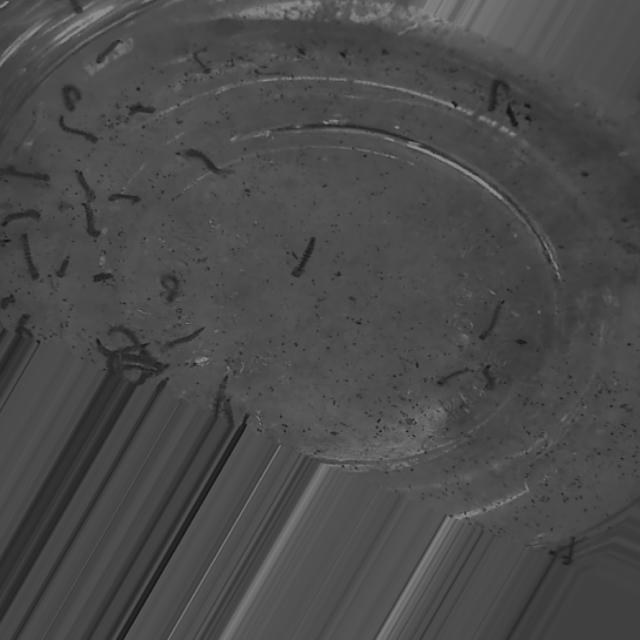larvas: (110, 316, 169, 374), (107, 340, 146, 377), (179, 150, 232, 175), (60, 115, 98, 144), (480, 297, 503, 343), (1, 163, 50, 182), (293, 236, 316, 276), (168, 327, 205, 350), (22, 233, 38, 278), (83, 201, 99, 242), (550, 536, 576, 561), (487, 76, 504, 114), (77, 169, 98, 199), (3, 208, 40, 224), (19, 310, 35, 344), (100, 36, 122, 60), (216, 376, 230, 413), (438, 371, 468, 388), (127, 363, 151, 384), (63, 84, 81, 111), (194, 48, 212, 74), (164, 271, 179, 301), (111, 192, 142, 205), (485, 362, 496, 396), (130, 99, 153, 115), (57, 255, 70, 280), (156, 377, 169, 398), (1, 291, 14, 309), (226, 396, 234, 422), (96, 338, 108, 355)
